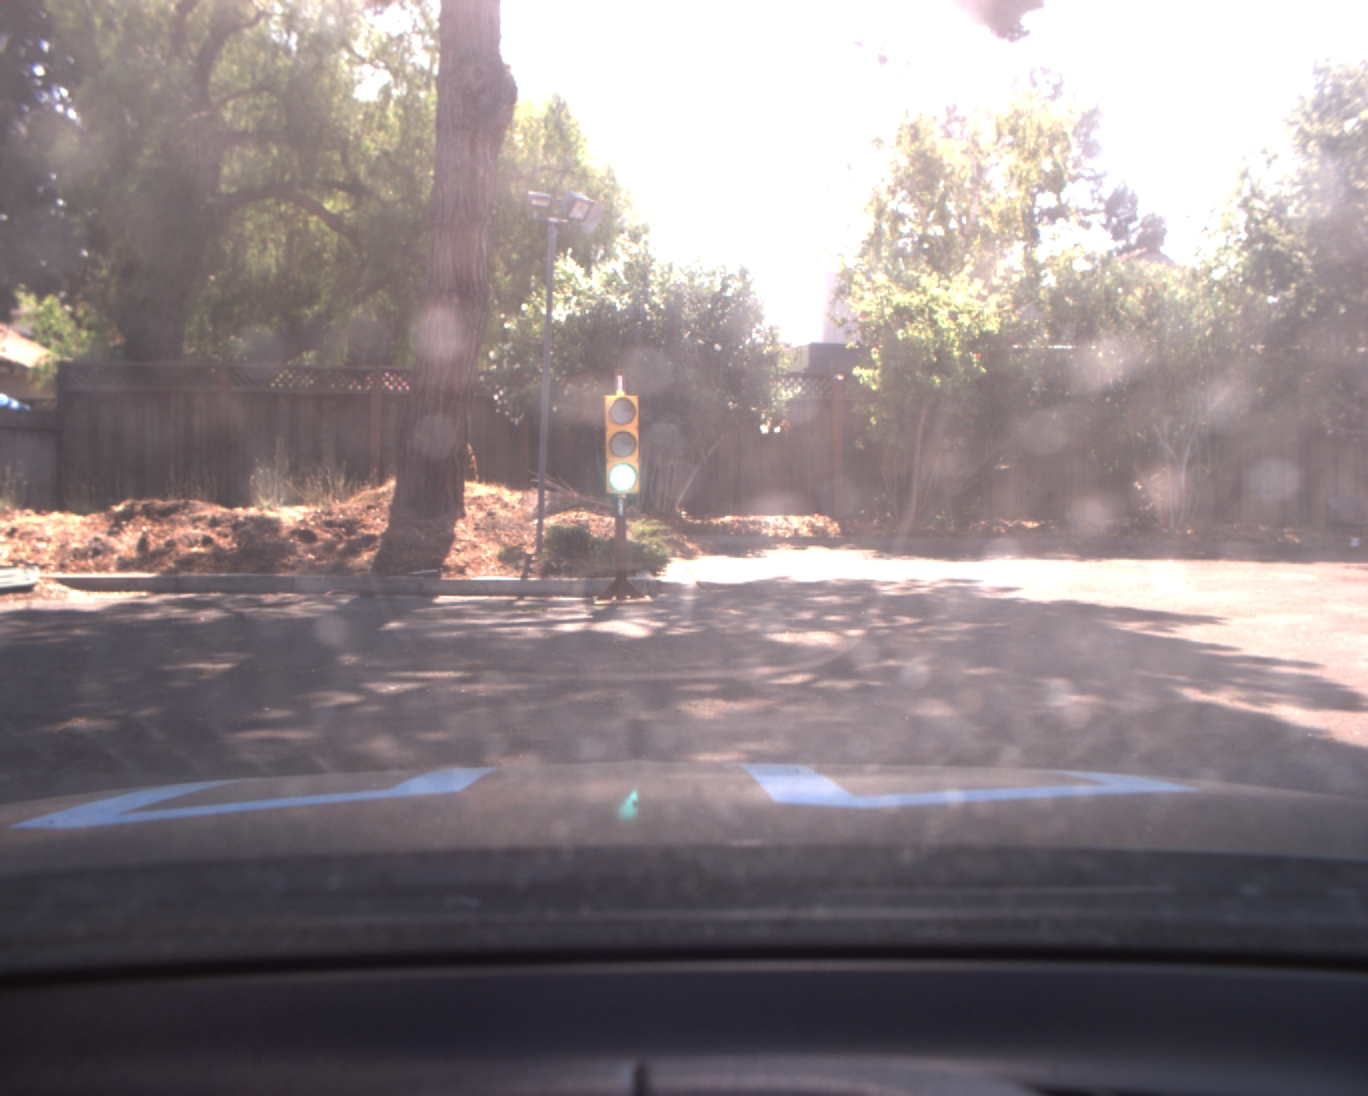green: (600, 389, 641, 499)
